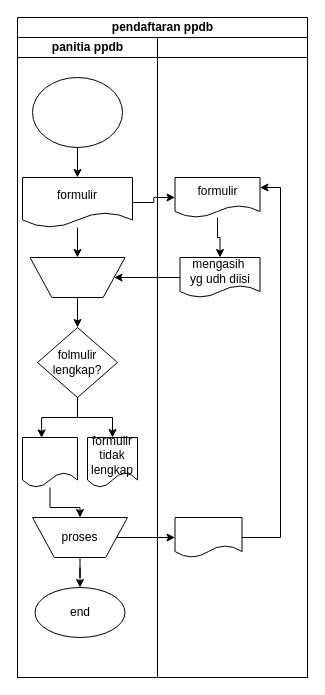
Some shapes in this 325 by 695 pixel diagram are drawn without their labels. The box of each missing label's shape, as (x1, y1, x2, y2) in pixels:
formulir lengkap: (22, 436, 78, 488)
formulir tdk lengkap: (174, 516, 242, 558)
meriksa kelenglapan: (29, 256, 125, 298)
peserta didik baru: (156, 36, 308, 678)
start: (32, 76, 122, 148)
